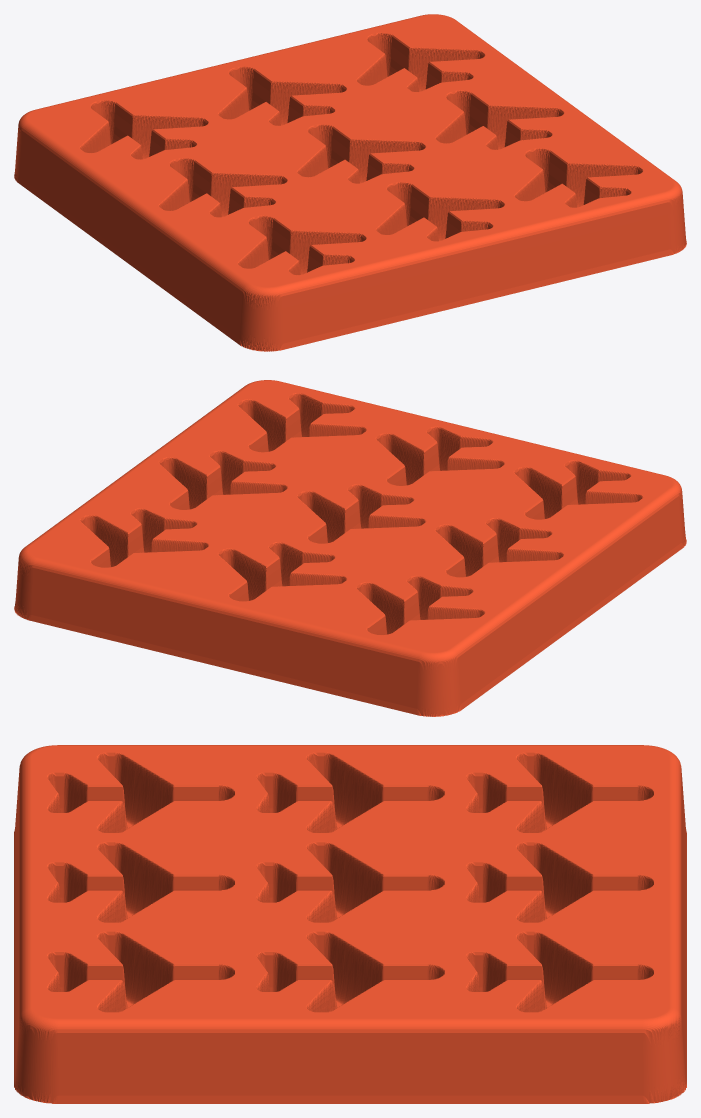
Rendered from mold.glb.
3 renders of one model, top to bottom at view 1: azimuth 30°, elevation 25°; view 2: azimuth 150°, elevation 25°; view 3: azimuth 270°, elevation 25°, orthographic. The views are drawn at different scales.
Parts seen in each view (by area): view 1: geometry_0; view 2: geometry_0; view 3: geometry_0.
Part boxes in pixels (box(x1,y1,x2,y2)): geometry_0: box(14, 14, 686, 351); geometry_0: box(14, 380, 686, 716); geometry_0: box(14, 745, 686, 1103).
Size of the model in its own units: 0.1387 by 0.0175 by 0.1373.
